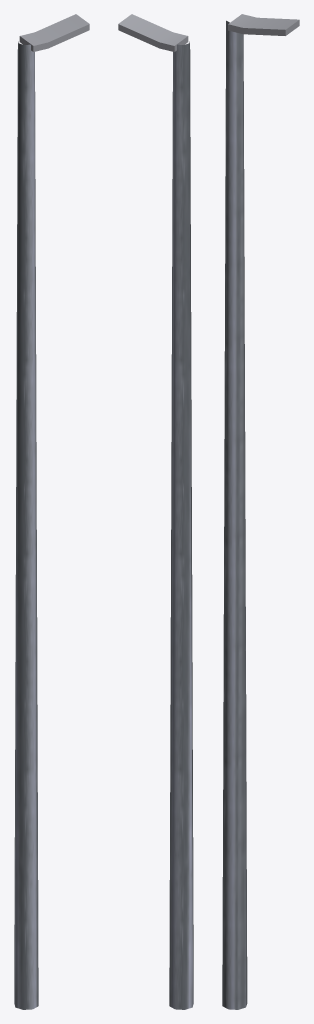
The picture shows the model from 3 angles, left to right: view 1: azimuth 30°, elevation 25°; view 2: azimuth 150°, elevation 25°; view 3: azimuth 330°, elevation 25°; orthographic projection. The views are drawn at different scales.
Visible parts, largest first — view 1: 街灯 ポール, 街灯; view 2: 街灯 ポール, 街灯; view 3: 街灯 ポール, 街灯.
Part boxes in pixels (x1=…): 街灯 ポール: x1=14, y1=41, x2=38, y2=1009; 街灯: x1=19, y1=14, x2=89, y2=51; 街灯 ポール: x1=169, y1=41, x2=193, y2=1009; 街灯: x1=118, y1=14, x2=188, y2=51; 街灯 ポール: x1=222, y1=20, x2=247, y2=1009; 街灯: x1=228, y1=14, x2=299, y2=35.
Size of the model in its own units: 0.6159 by 8.48 by 0.216.
Materials: 3 (2 with a texture image).
